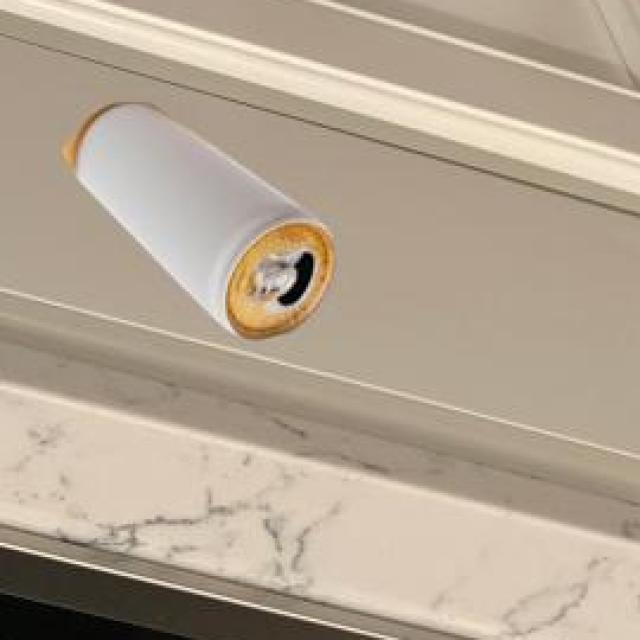logam: (60, 105, 331, 343)
